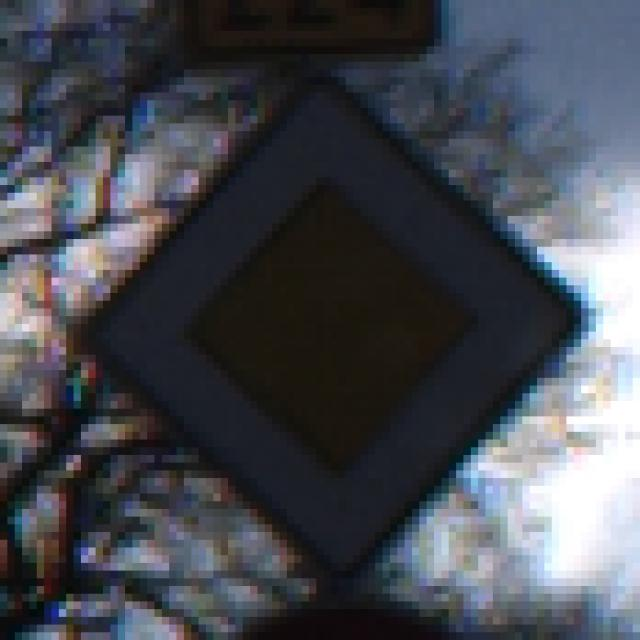Main Road: (60, 55, 589, 587)
